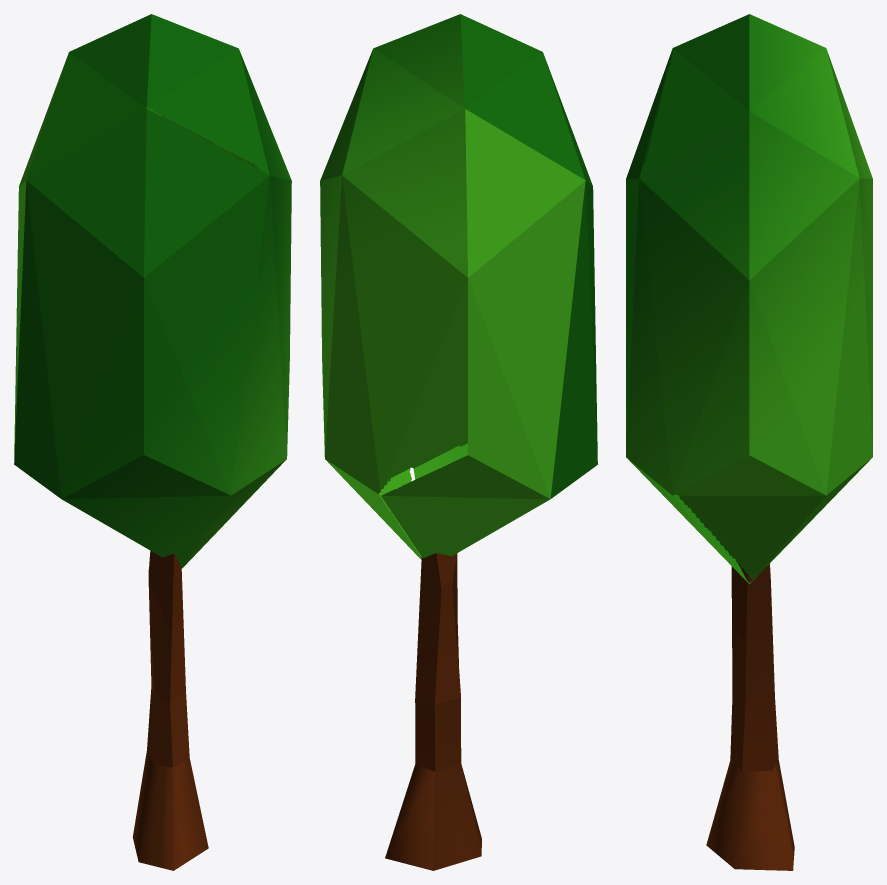
File: drzewo5.obj
3 views of the same model, side by side, from view 1: azimuth 30°, elevation 25°; view 2: azimuth 150°, elevation 25°; view 3: azimuth 270°, elevation 25° (orthographic).
Visible parts, largest first — view 1: Cylinder006; view 2: Cylinder006; view 3: Cylinder006.
Boxes of the visible parts, box(x1,y1,x2,y2) form: Cylinder006: box(14, 14, 291, 870); Cylinder006: box(320, 14, 597, 870); Cylinder006: box(626, 14, 872, 870).
Bounding box in the file's own units: 45.18 × 137 × 36.83.
